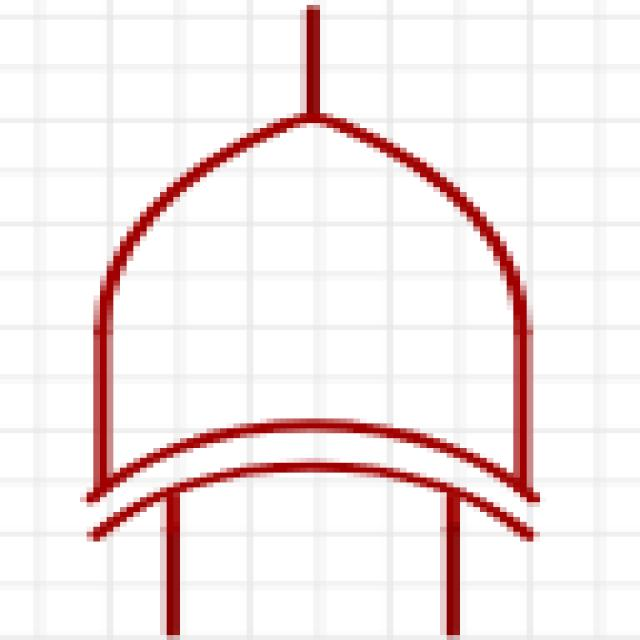xor: (62, 6, 585, 634)
